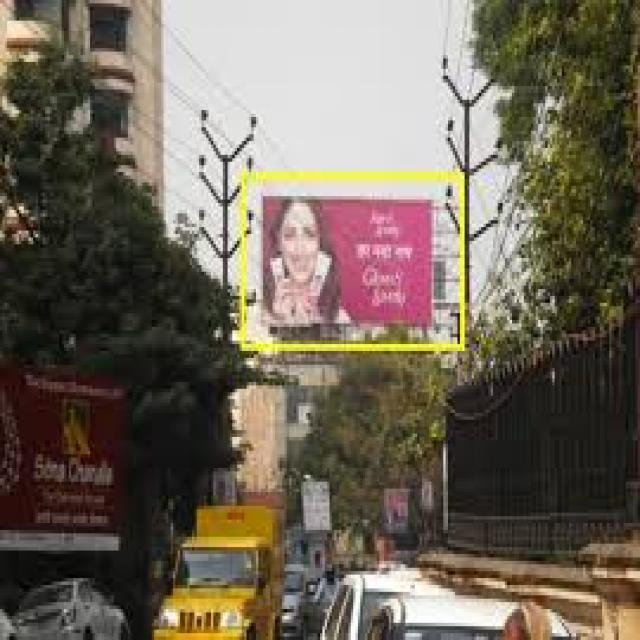Werbetafel frei: (240, 173, 464, 348)
